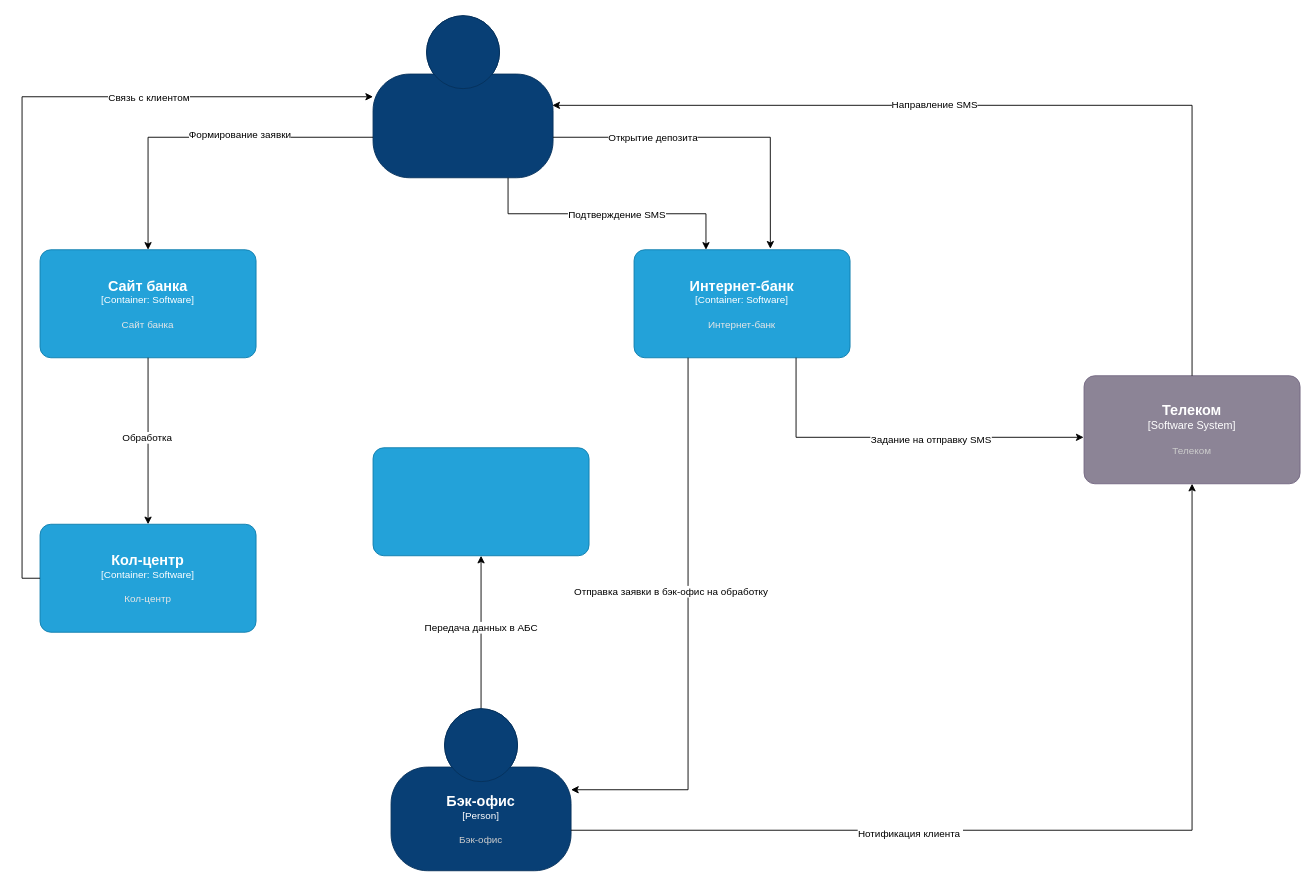
Image size: 1316x887. Some labels were removed from this diagram. Here are the shapes that lost their labels. From the top down, the box of each, then its label:
(372, 15, 553, 178): Клиент банка [Person] Клиент банка
(372, 447, 589, 556): АБС [Container: Software] АБС
